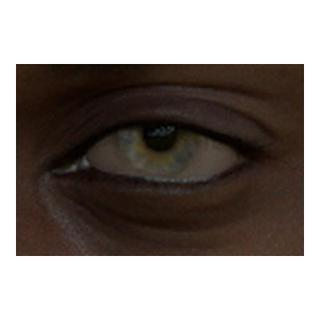pupil: (144, 118, 176, 151)
